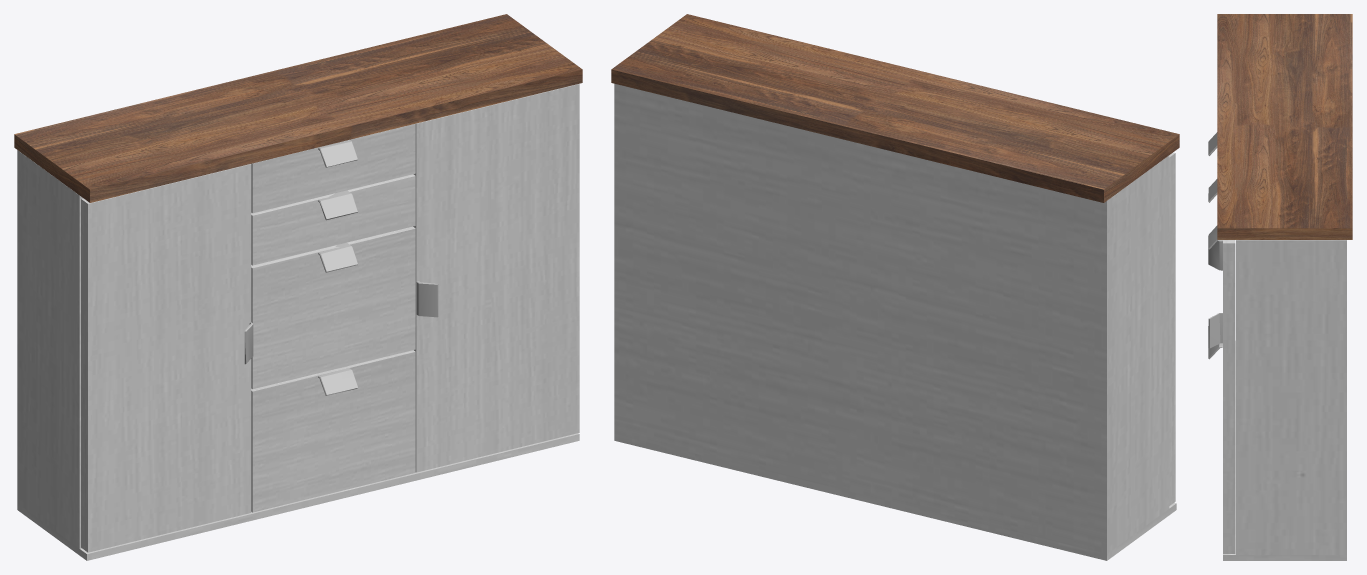
File: Furniture 1.FBX
3 renders of one model, left to right at view 1: azimuth 30°, elevation 25°; view 2: azimuth 150°, elevation 25°; view 3: azimuth 270°, elevation 25°, orthographic. The views are drawn at different scales.
Visible parts, largest first — view 1: Furniture 1; view 2: Furniture 1; view 3: Furniture 1.
Part boxes in pixels (bbox=[...]): Furniture 1: bbox=[14, 14, 582, 560]; Furniture 1: bbox=[611, 14, 1179, 560]; Furniture 1: bbox=[1208, 14, 1352, 560].
Bounding box in the file's own units: 195 × 55.49 × 141.
